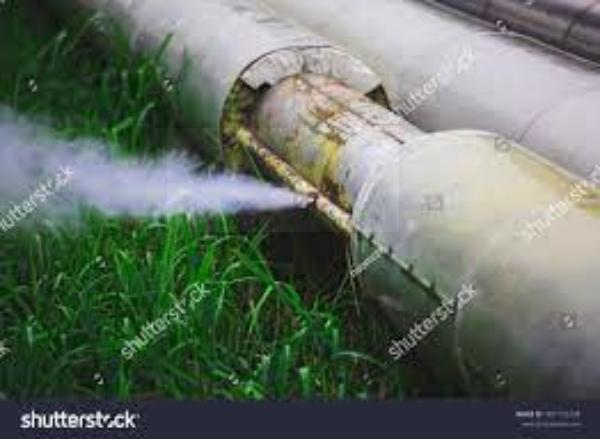gas: (167, 128, 399, 232)
